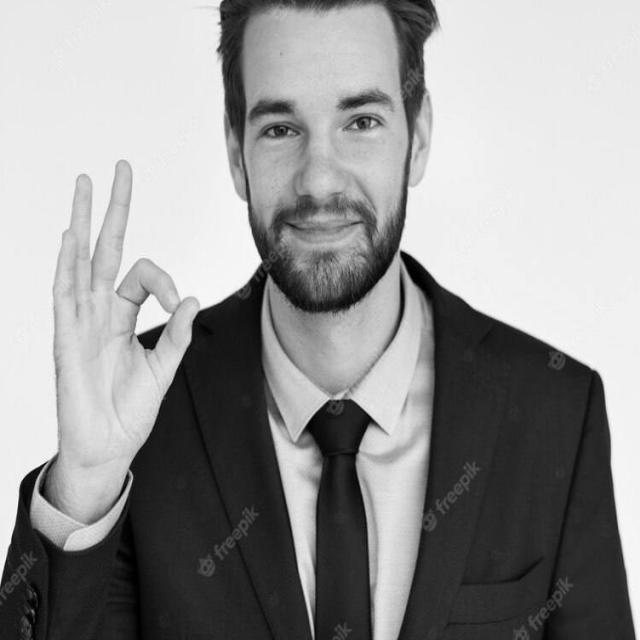perfect: (38, 146, 208, 485)
